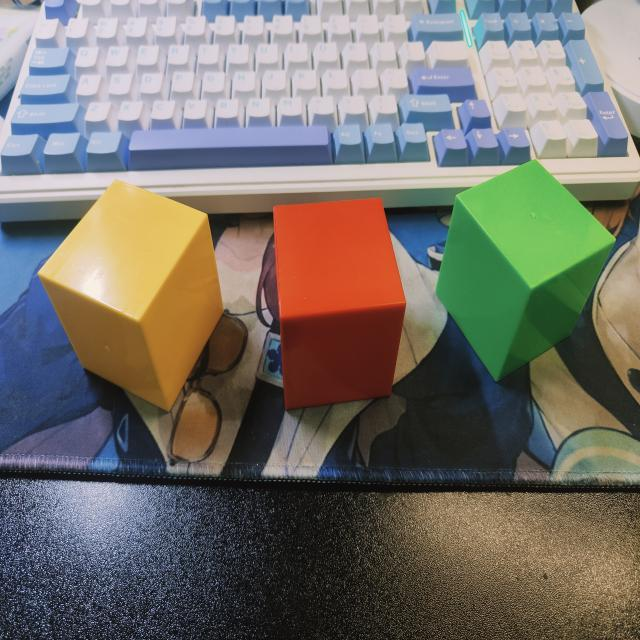green: (434, 161, 617, 385)
red: (269, 199, 408, 414)
yellow: (35, 179, 227, 416)
